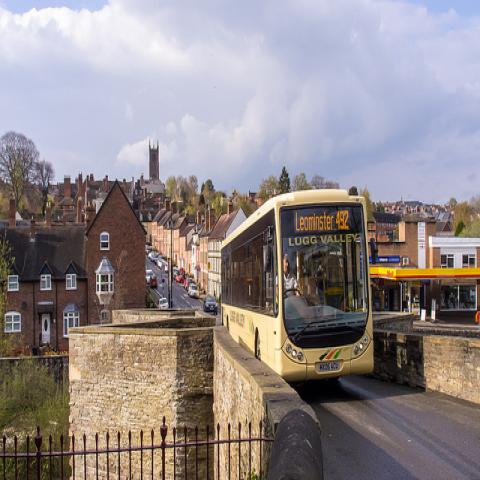bus: (220, 189, 376, 382)
car: (202, 296, 218, 315), (158, 256, 168, 274), (188, 284, 199, 299), (145, 268, 154, 284), (149, 275, 158, 289), (158, 298, 168, 310), (183, 278, 192, 290), (173, 268, 180, 280), (175, 275, 184, 284), (150, 256, 157, 262), (155, 258, 157, 265)
